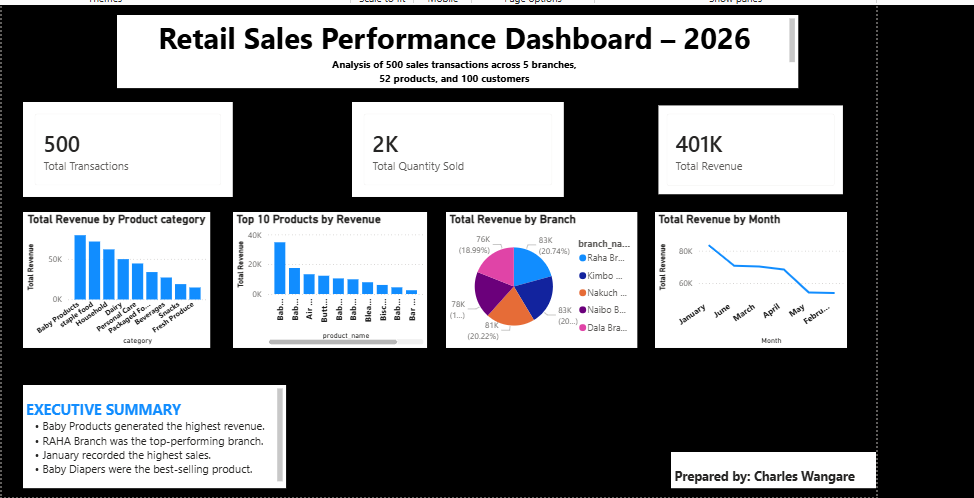

What the dashboard file says about the page in this screenshot:
{"tool":"powerbi","page":{"name":"Page 1","canvas":[1280,720],"ordinal":0},"visuals":[{"type":"cardVisual","fields":{"Data":["SALES.Total Revenue"]},"box":[955.6,142,281,140.5],"z":0},{"type":"cardVisual","fields":{"Data":["SALES.Total Quantity Sold"]},"box":[512.2,142,310.2,139],"z":1000},{"type":"cardVisual","fields":{"Data":["SALES.Total Transactions"]},"box":[30.7,142,307.3,139],"z":2000},{"type":"columnChart","title":"Top 10 Products by Revenue","fields":{"Category":["PRODUCTS.product_name"],"Y":["SALES.Total Revenue"]},"box":[338,302.9,283.9,199],"z":3000},{"type":"pieChart","title":"Total Revenue by Branch","fields":{"Category":["BRANCH.branch_name"],"Y":["SALES.Total Revenue"]},"box":[649.8,302.9,279.5,199],"z":4000},{"type":"lineChart","fields":{"Category":["SALES.Month"],"Y":["SALES.Total Revenue"]},"box":[955.6,302.9,281,199],"z":5000},{"type":"clusteredColumnChart","title":"Total Revenue by Product category","fields":{"Y":["SALES.Total Revenue"],"Category":["PRODUCTS.category"]},"box":[30.7,302.9,273.7,199],"z":6000},{"type":"textbox","box":[168.3,14.6,996.6,106.8],"z":7000},{"type":"textbox","box":[979,654.1,301.5,52.7],"z":8000},{"type":"textbox","box":[30.7,556.1,384.9,150.7],"z":8001}]}

Visuals, with their boxes in screenshot pixels (x1, y1, x2, y2):
cardVisual - SALES.Total Revenue: 651,99,842,195
cardVisual - SALES.Total Quantity Sold: 349,99,560,194
cardVisual - SALES.Total Transactions: 21,99,230,194
"Top 10 Products by Revenue" columnChart: 230,209,423,344
"Total Revenue by Branch" pieChart: 442,209,633,344
lineChart - SALES.Month x SALES.Total Revenue: 651,209,842,344
"Total Revenue by Product category" clusteredColumnChart: 21,209,207,344
textbox: 115,12,793,85
textbox: 667,448,872,484
textbox: 21,381,283,484
